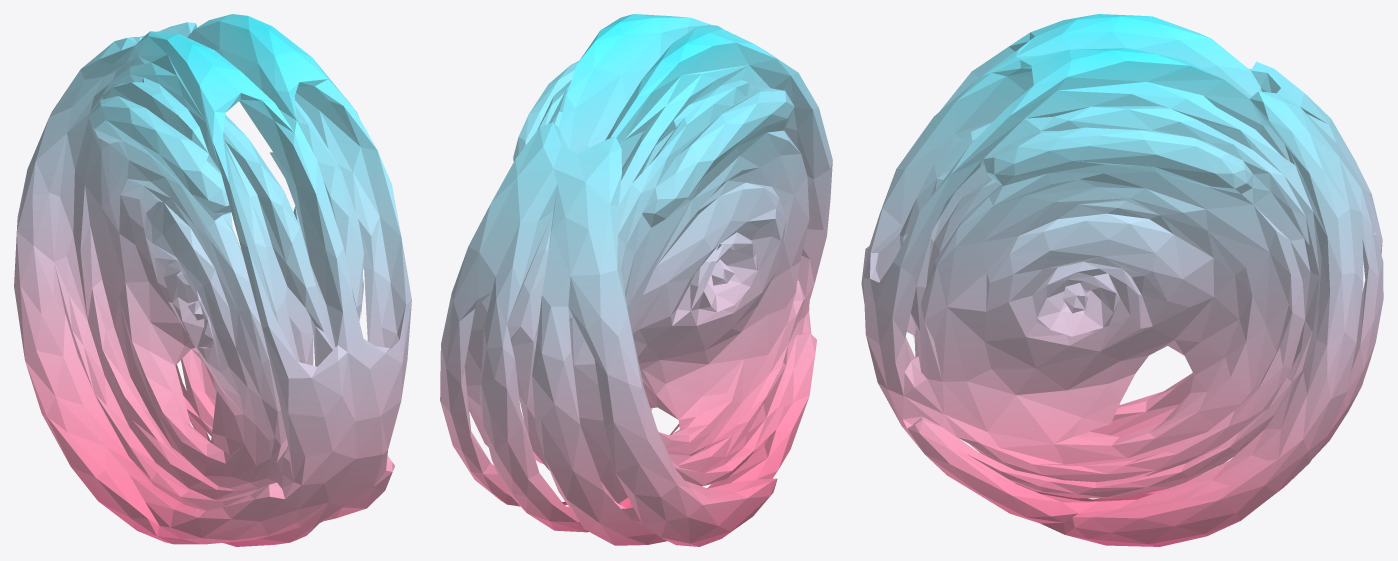
Rendered from 161_cyb_laser_gradient_fish_scales_2826_2026_10_03_05664f.glb.
3 renders of one model, left to right at view 1: azimuth 30°, elevation 25°; view 2: azimuth 150°, elevation 25°; view 3: azimuth 270°, elevation 25°, orthographic.
Parts seen in each view (by area): view 1: geometry_0; view 2: geometry_0; view 3: geometry_0.
Boxes of the visible parts, bbox=[...] form: geometry_0: bbox=[14, 14, 411, 546]; geometry_0: bbox=[440, 14, 832, 546]; geometry_0: bbox=[861, 14, 1383, 546].
Bounding box in the file's own units: 0.4995 × 1 × 0.9732.
